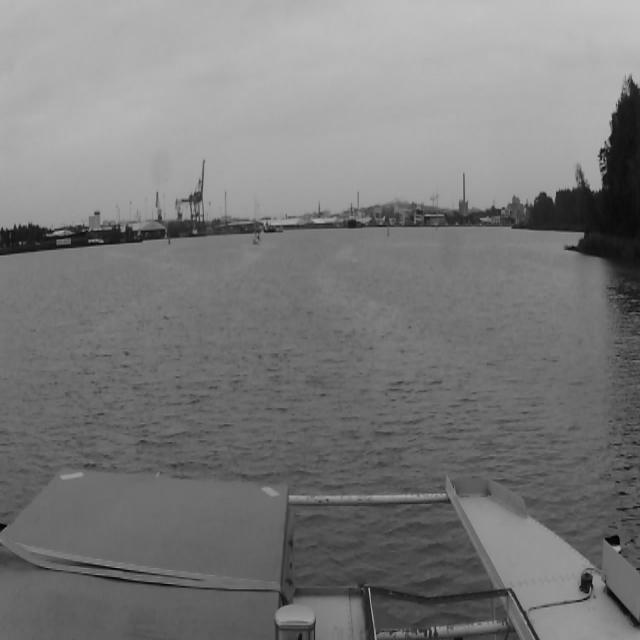buoy: (386, 223, 390, 235), (168, 234, 170, 244)
ship: (252, 193, 260, 243), (348, 202, 357, 228)
